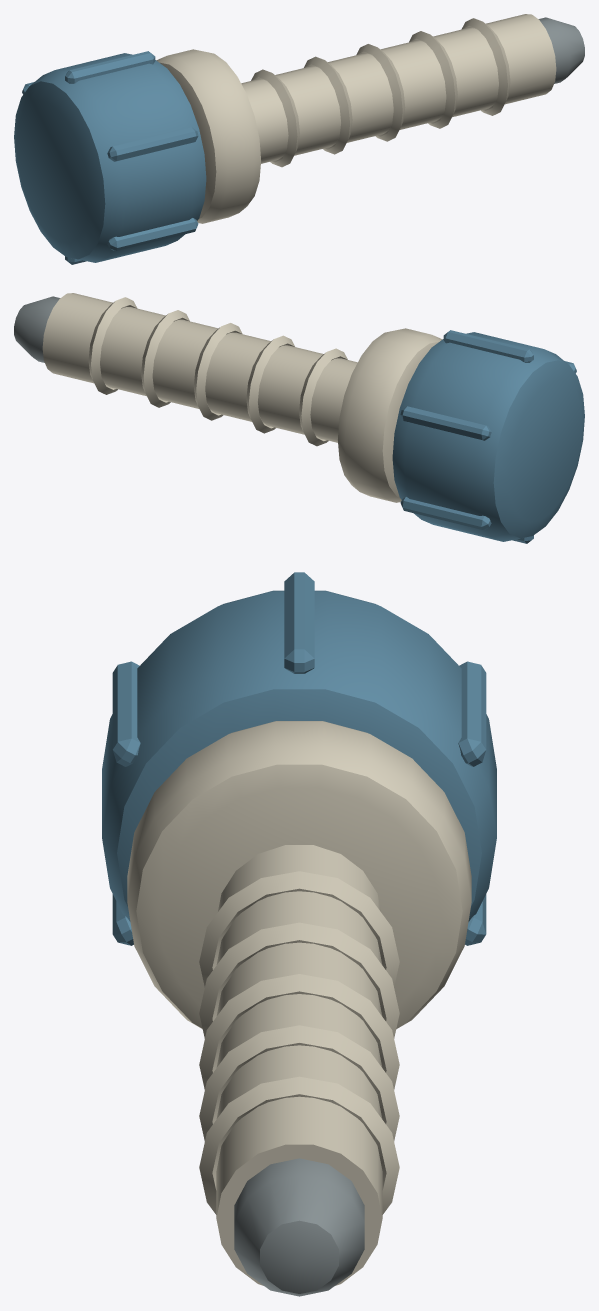
The model's file is sc-thoracoport.glb.
3 renders of one model, top to bottom at view 1: azimuth 30°, elevation 25°; view 2: azimuth 150°, elevation 25°; view 3: azimuth 270°, elevation 25°, orthographic. The views are drawn at different scales.
Parts seen in each view (by area): view 1: sc-thoracoport; view 2: sc-thoracoport; view 3: sc-thoracoport.
Part boxes in pixels (x1=…): sc-thoracoport: x1=14, y1=14, x2=584, y2=264; sc-thoracoport: x1=14, y1=293, x2=584, y2=543; sc-thoracoport: x1=102, y1=572, x2=496, y2=1296.
Size of the model in its own units: 0.1205 by 0.042 by 0.039.
